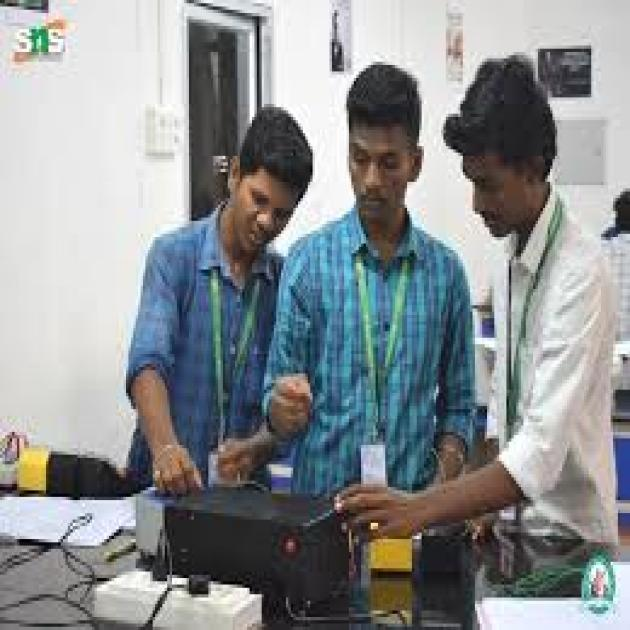there is a person: (446, 58, 630, 562), (110, 96, 310, 510), (318, 78, 448, 488)
